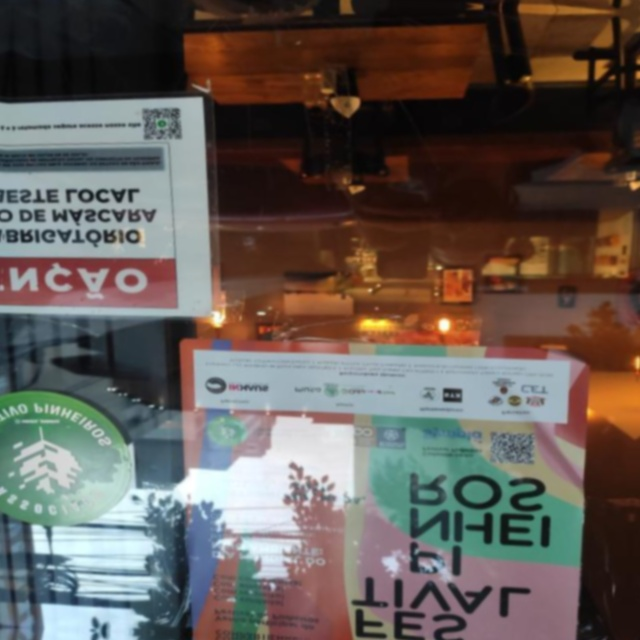qr-code: (141, 107, 183, 141), (490, 433, 535, 464)
